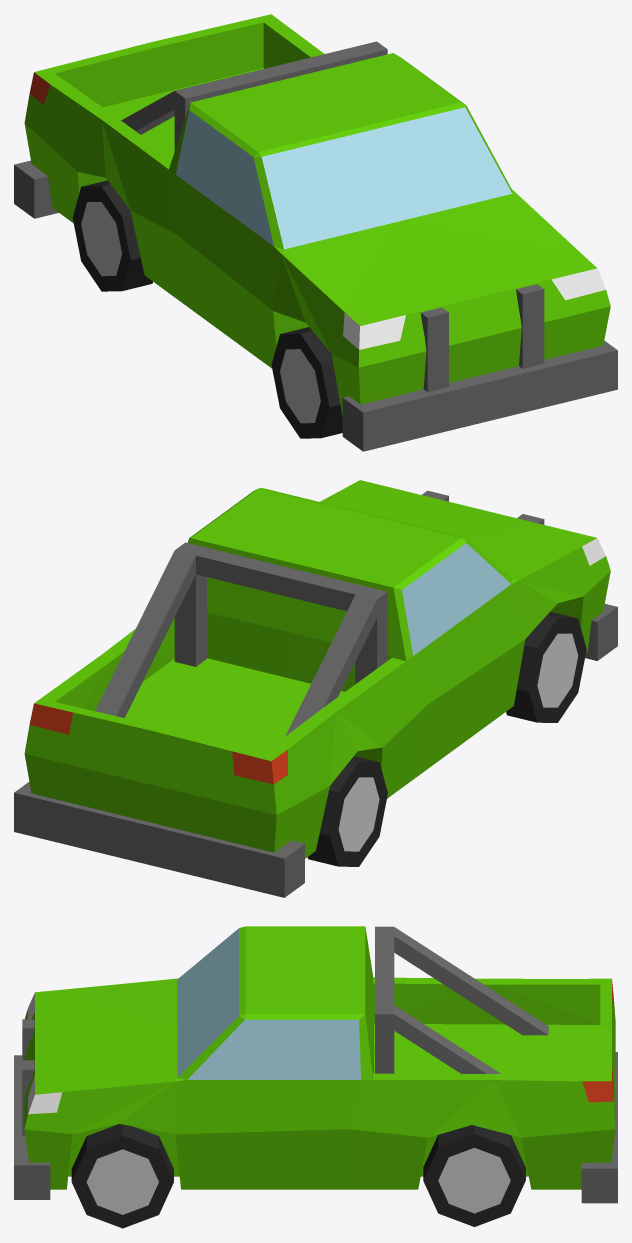
Rendered from Pickup.fbx.
3 views of the same model, one above another, from view 1: azimuth 30°, elevation 25°; view 2: azimuth 150°, elevation 25°; view 3: azimuth 270°, elevation 25° (orthographic). The views are drawn at different scales.
Parts seen in each view (by area): view 1: Pickup; view 2: Pickup; view 3: Pickup.
Part boxes in pixels (<box>): Pickup: <box>14,14,617,451</box>; Pickup: <box>14,480,617,897</box>; Pickup: <box>14,926,617,1228</box>.
Size of the model in its own units: 371 by 301 by 812.
